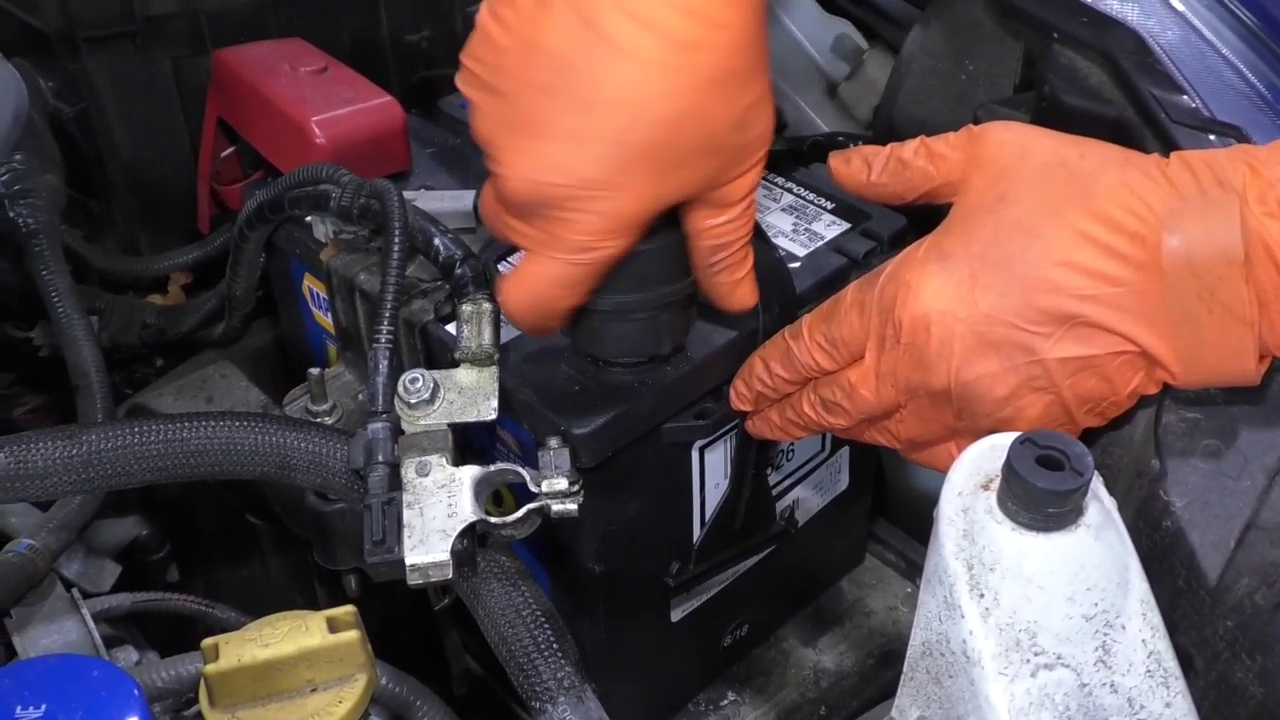battery: (261, 40, 914, 439)
pos_connected: (188, 27, 426, 246)
